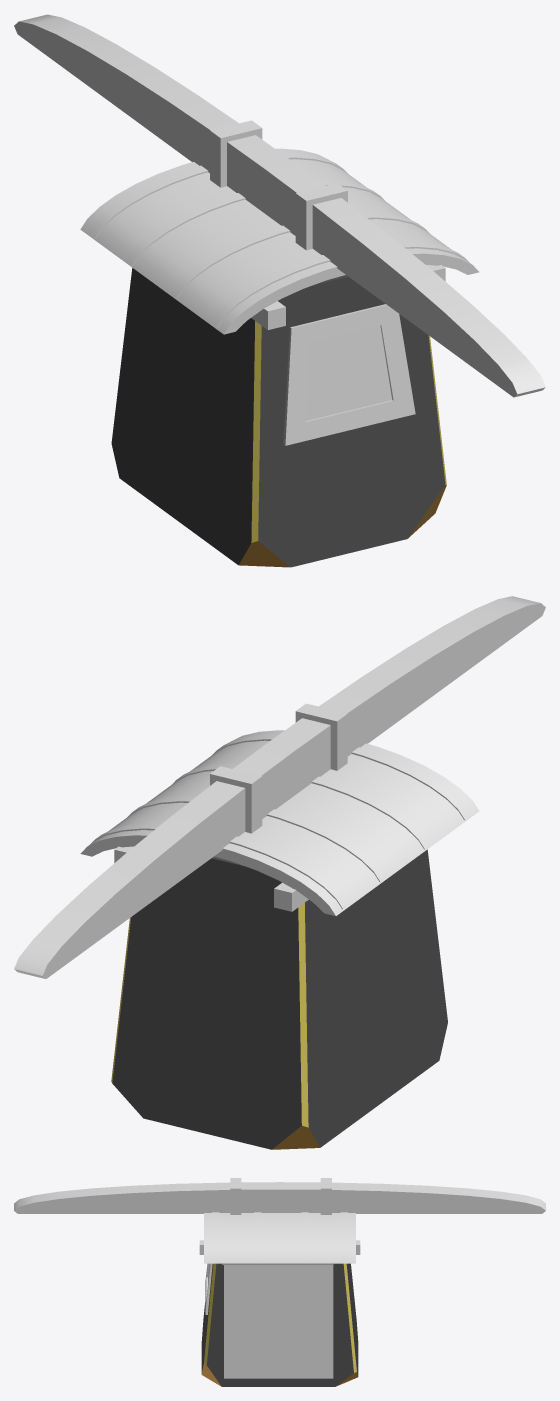
The model's file is Kago.fbx.
3 renders of one model, top to bottom at view 1: azimuth 30°, elevation 25°; view 2: azimuth 150°, elevation 25°; view 3: azimuth 270°, elevation 25°, orthographic. The views are drawn at different scales.
Parts seen in each view (by area): view 1: 立方体, 円柱.001, 円柱, 立方体.005, 平面, 円柱.002, 円柱.003, 円柱.005, 円柱.004, 立方体.003, 立方体.004, 立方体.002; view 2: 立方体, 円柱.001, 円柱, 円柱.005, 円柱.004, 円柱.002, 円柱.003, 立方体.004, 立方体.003, 立方体.002; view 3: 円柱.001, 立方体.007, 円柱, 立方体, 円柱.002, 円柱.005, 立方体.003, 立方体.004, 円柱.003, 円柱.004, 立方体.005.
Part boxes in pixels (x1=…): 立方体: x1=111, y1=268, x2=446, y2=567; 円柱.001: x1=14, y1=14, x2=545, y2=397; 円柱: x1=80, y1=148, x2=479, y2=334; 立方体.005: x1=283, y1=304, x2=415, y2=445; 平面: x1=305, y1=325, x2=392, y2=420; 円柱.002: x1=209, y1=241, x2=469, y2=327; 円柱.003: x1=169, y1=212, x2=429, y2=298; 円柱.005: x1=87, y1=152, x2=347, y2=238; 円柱.004: x1=125, y1=179, x2=384, y2=265; 立方体.003: x1=295, y1=183, x2=347, y2=250; 立方体.004: x1=210, y1=120, x2=262, y2=187; 立方体.002: x1=251, y1=301, x2=285, y2=329; 立方体: x1=111, y1=849, x2=447, y2=1149; 円柱.001: x1=14, y1=596, x2=545, y2=978; 円柱: x1=80, y1=730, x2=479, y2=915; 円柱.005: x1=90, y1=823, x2=350, y2=909; 円柱.004: x1=128, y1=796, x2=387, y2=881; 円柱.002: x1=212, y1=734, x2=471, y2=819; 円柱.003: x1=173, y1=763, x2=432, y2=849; 立方体.004: x1=210, y1=766, x2=262, y2=833; 立方体.003: x1=295, y1=703, x2=347, y2=770; 立方体.002: x1=274, y1=882, x2=308, y2=911; 円柱.001: x1=14, y1=1182, x2=545, y2=1213; 立方体.007: x1=224, y1=1265, x2=333, y2=1378; 円柱: x1=204, y1=1213, x2=355, y2=1263; 立方体: x1=201, y1=1263, x2=358, y2=1386; 円柱.002: x1=211, y1=1212, x2=219, y2=1262; 円柱.005: x1=340, y1=1212, x2=348, y2=1262; 立方体.003: x1=230, y1=1178, x2=241, y2=1214; 立方体.004: x1=320, y1=1178, x2=331, y2=1214; 円柱.003: x1=254, y1=1212, x2=261, y2=1262; 円柱.004: x1=301, y1=1212, x2=308, y2=1262; 立方体.005: x1=205, y1=1263, x2=212, y2=1314.
Bounding box in the file's own units: 0.8804 × 1.11 × 3.
